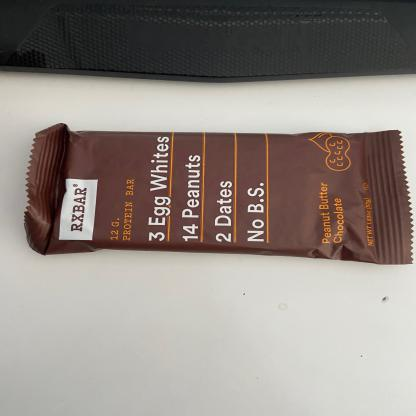ProteinBars: (39, 129, 416, 277)
